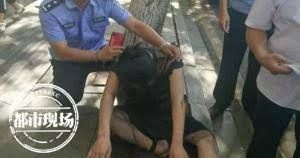falling: (72, 37, 228, 156)
